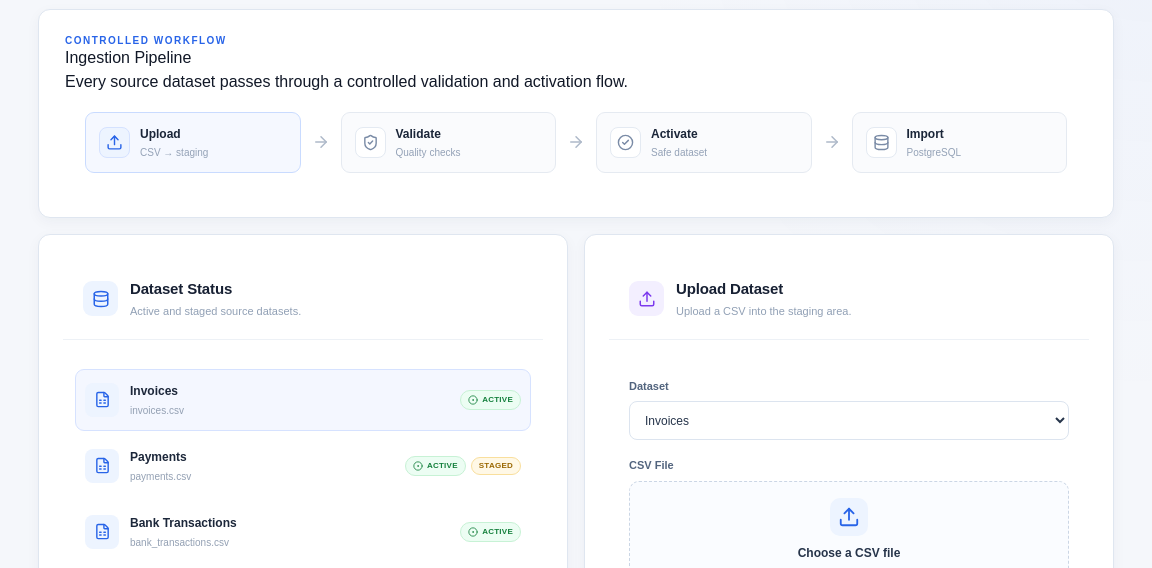
Test: DataIngestion › runs validation for a staged dataset
Expected: the text "invoices.csv" is shown, [130,405,184,416]
Click the button "Payments payments.csv ACTIVE STAGED".
click(102, 466)  # box [75,435,531,497]
(page scrolled)
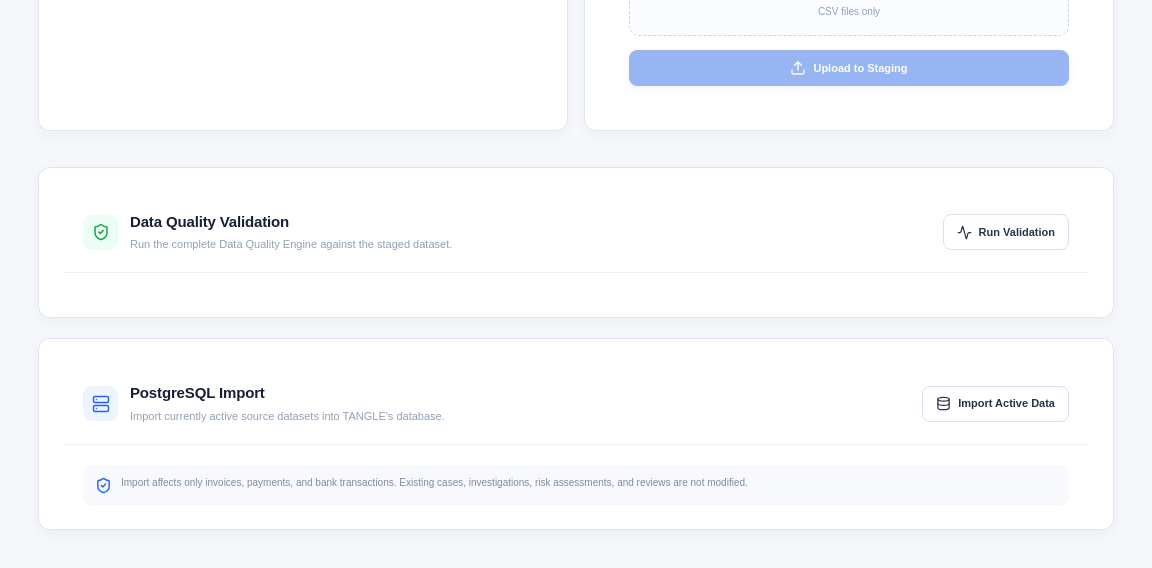
Now the button "Run Validation" is enabled
Click the button "Run Validation".
click(1006, 232)  # box [943,214,1069,250]
(page scrolled)
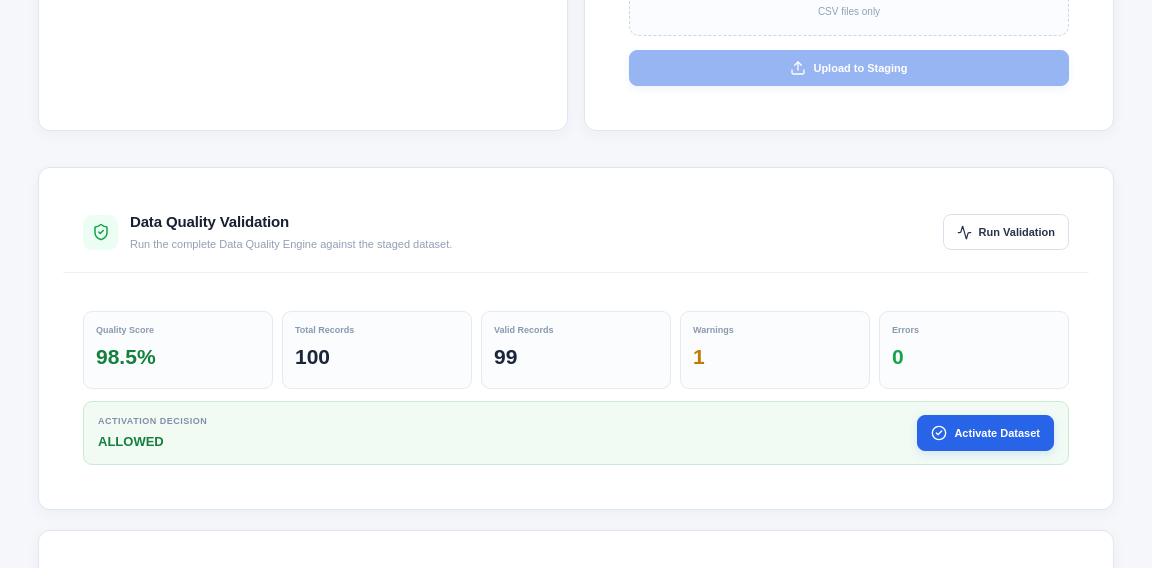
Now the text "98.5%" is shown, box [96,345,156,368]
Now the text "100" is shown, box [295,345,330,368]
Now the text "99" is shown, box [494,345,517,368]
